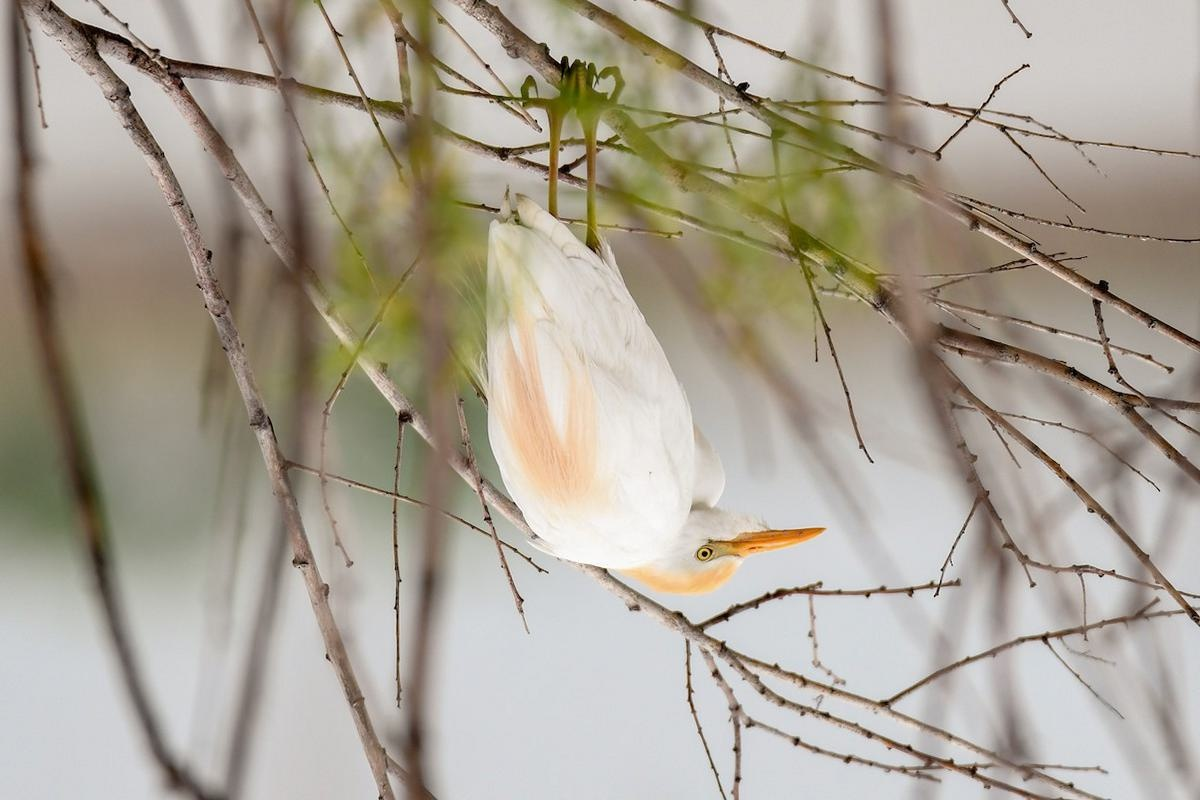egret: (416, 195, 823, 602)
